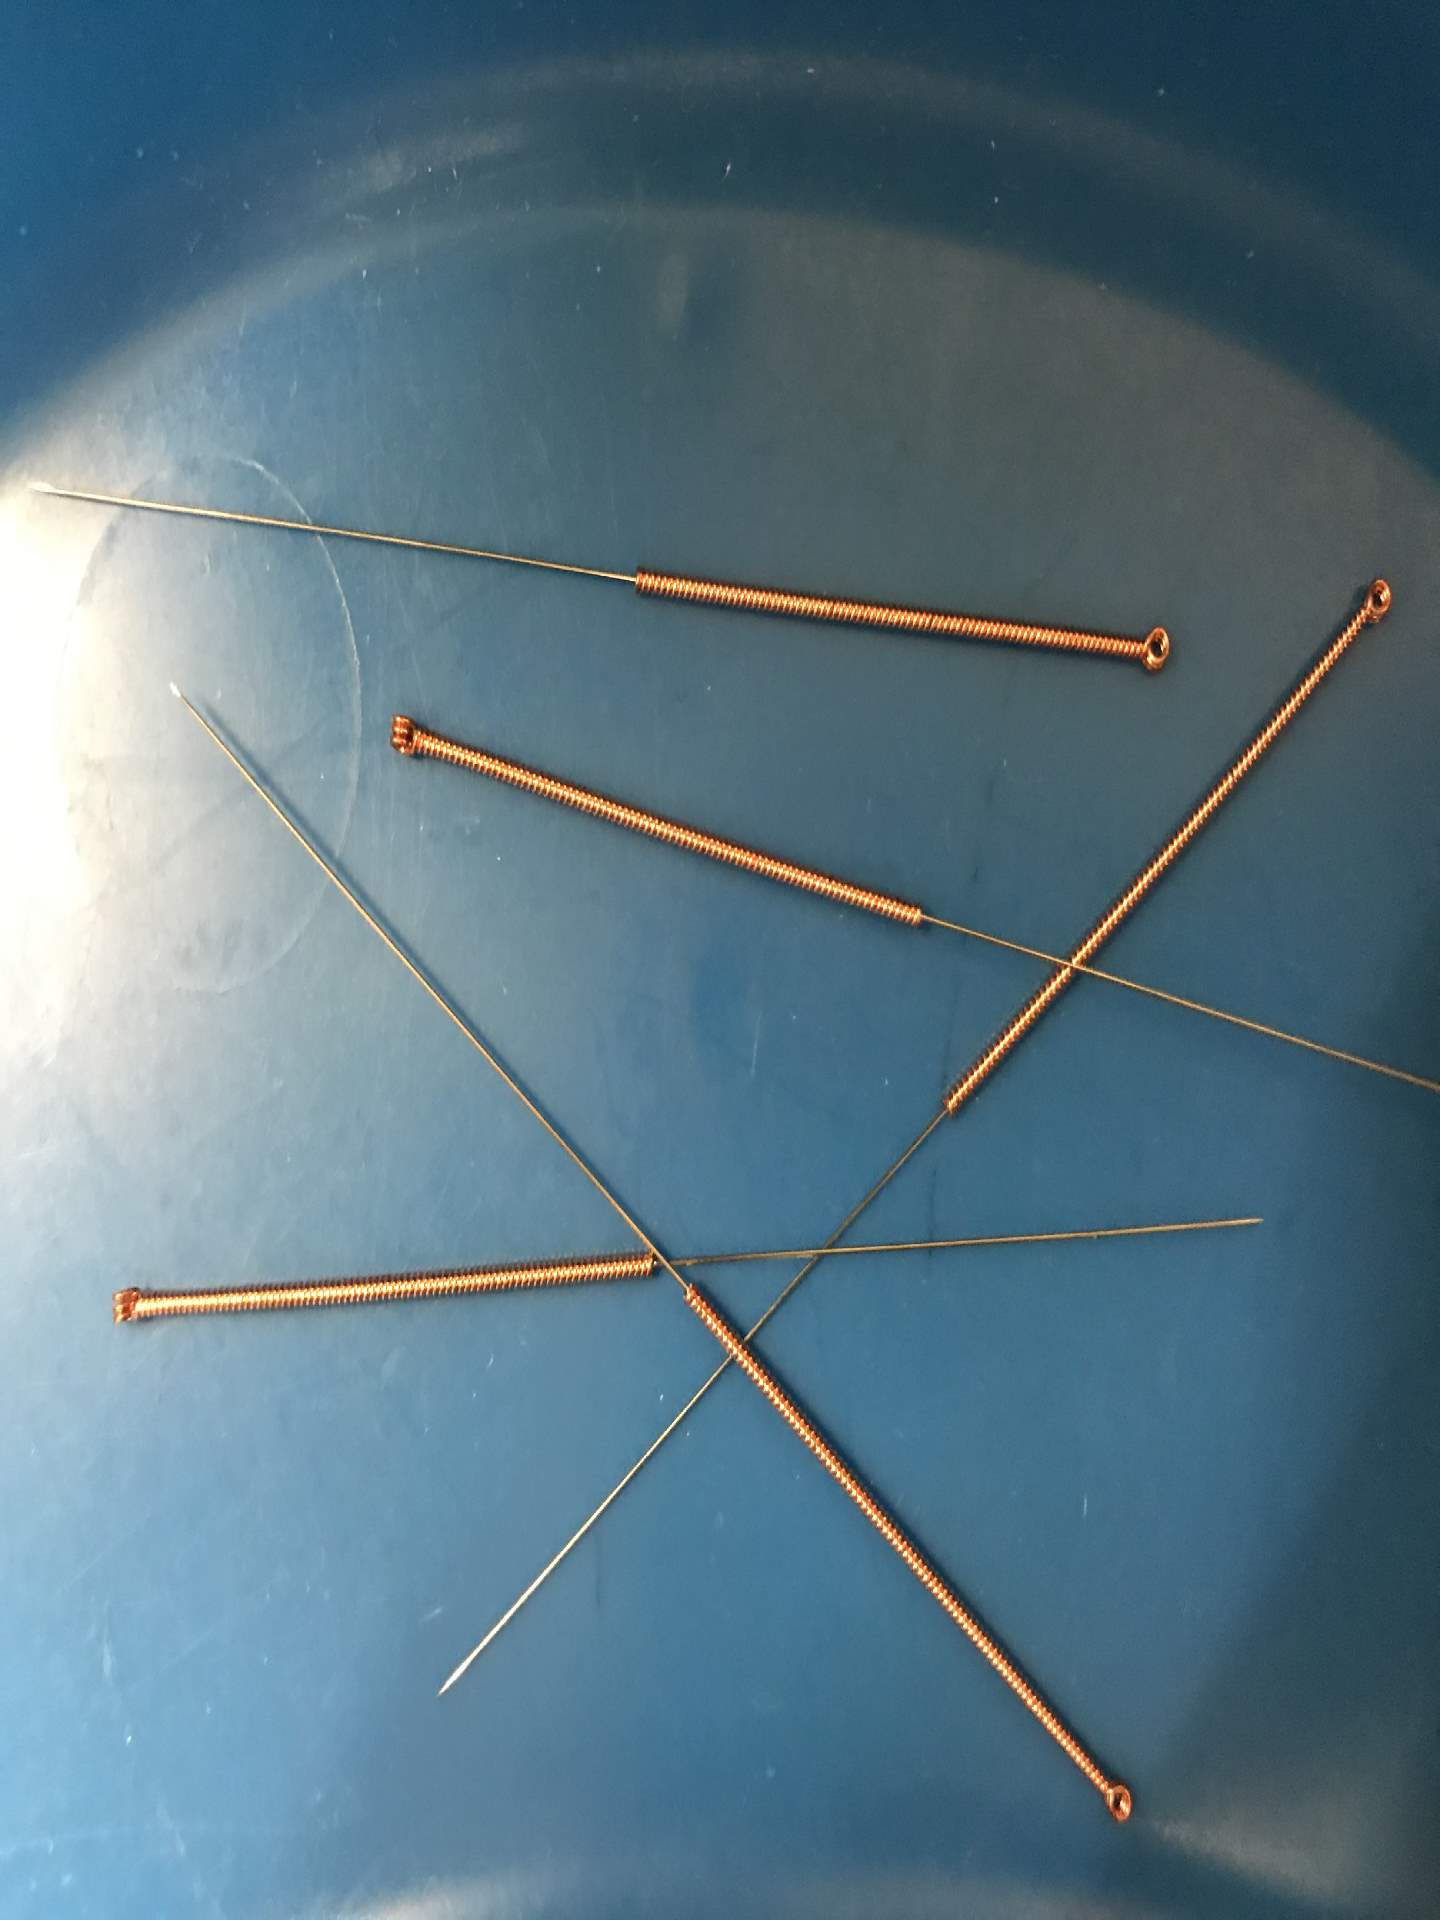needle: (1110, 606, 1187, 689), (1334, 562, 1408, 646), (1080, 1757, 1150, 1837), (368, 698, 442, 771), (97, 1270, 160, 1342)
